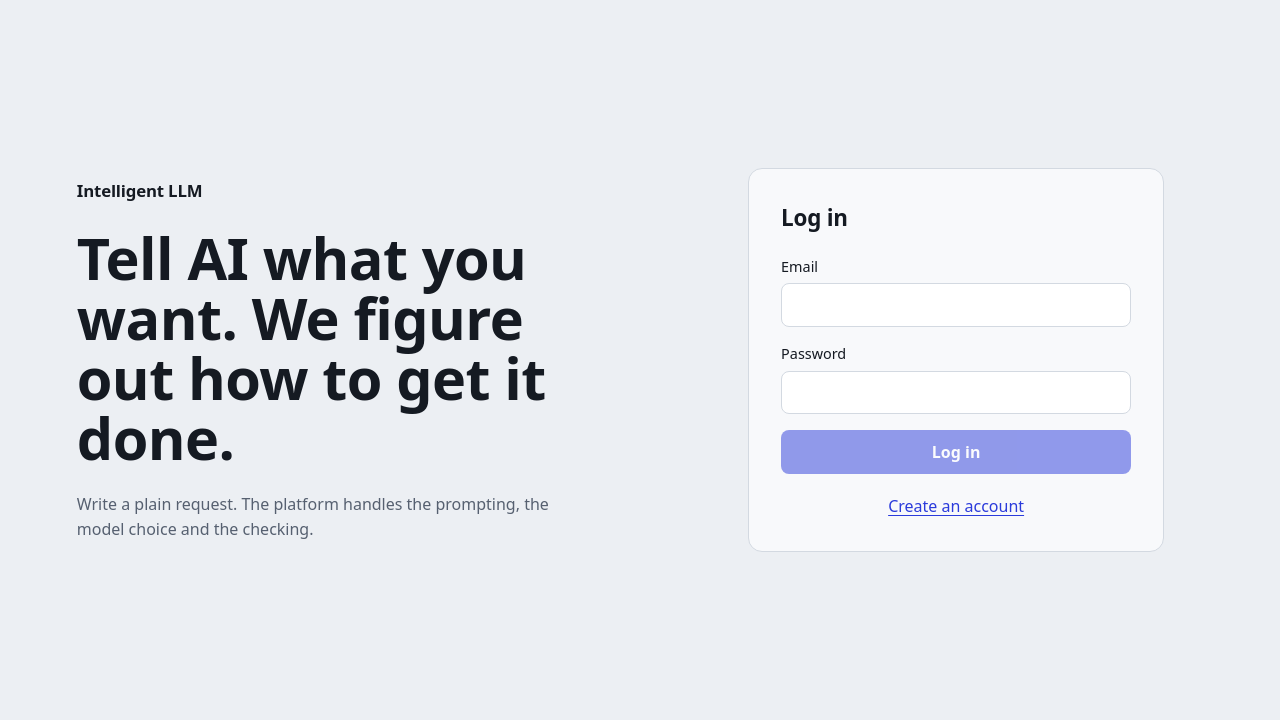
Test: authentication flow › logs in and lands on the chat start screen
Type "mo@example.com" into the field labelled "Email". click: (956, 305)
box: left=781, top=284, right=1131, bottom=327
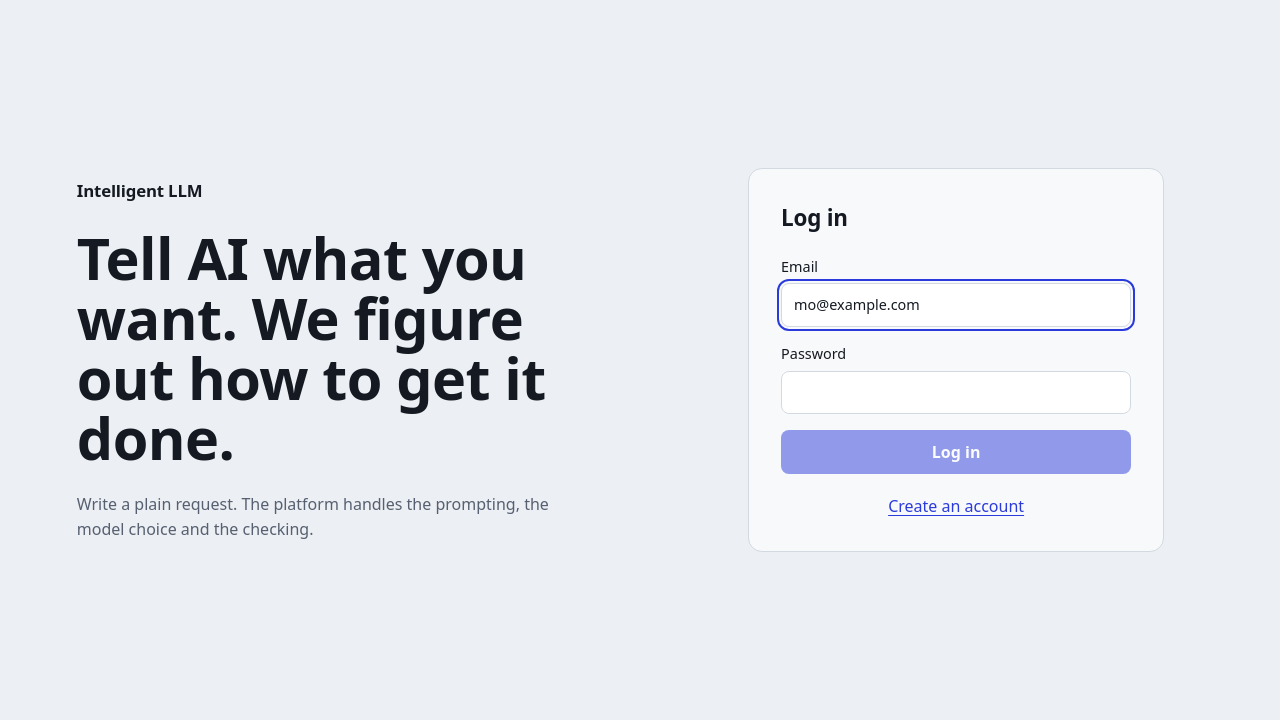
Type "correct-horse-battery" into the password field labelled "Password". click: (956, 393)
box: left=781, top=371, right=1131, bottom=414
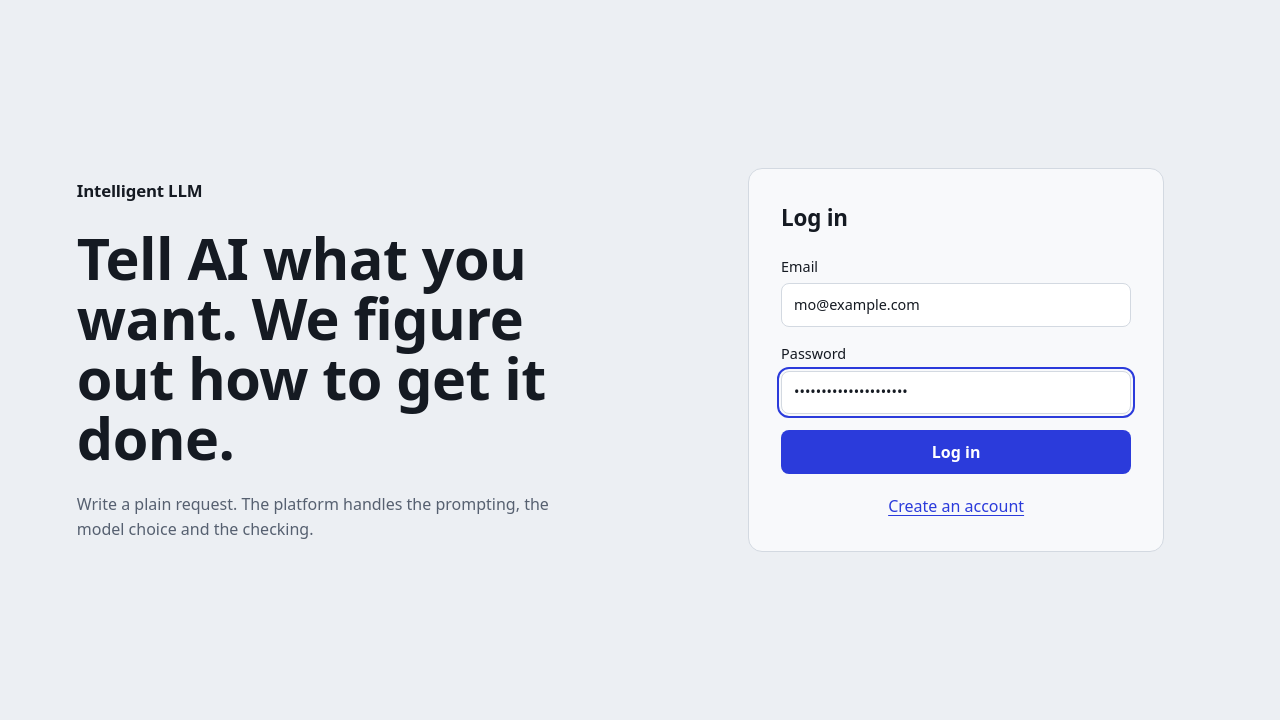
Click the button "Log in". click: (956, 452)
box: left=781, top=430, right=1131, bottom=474
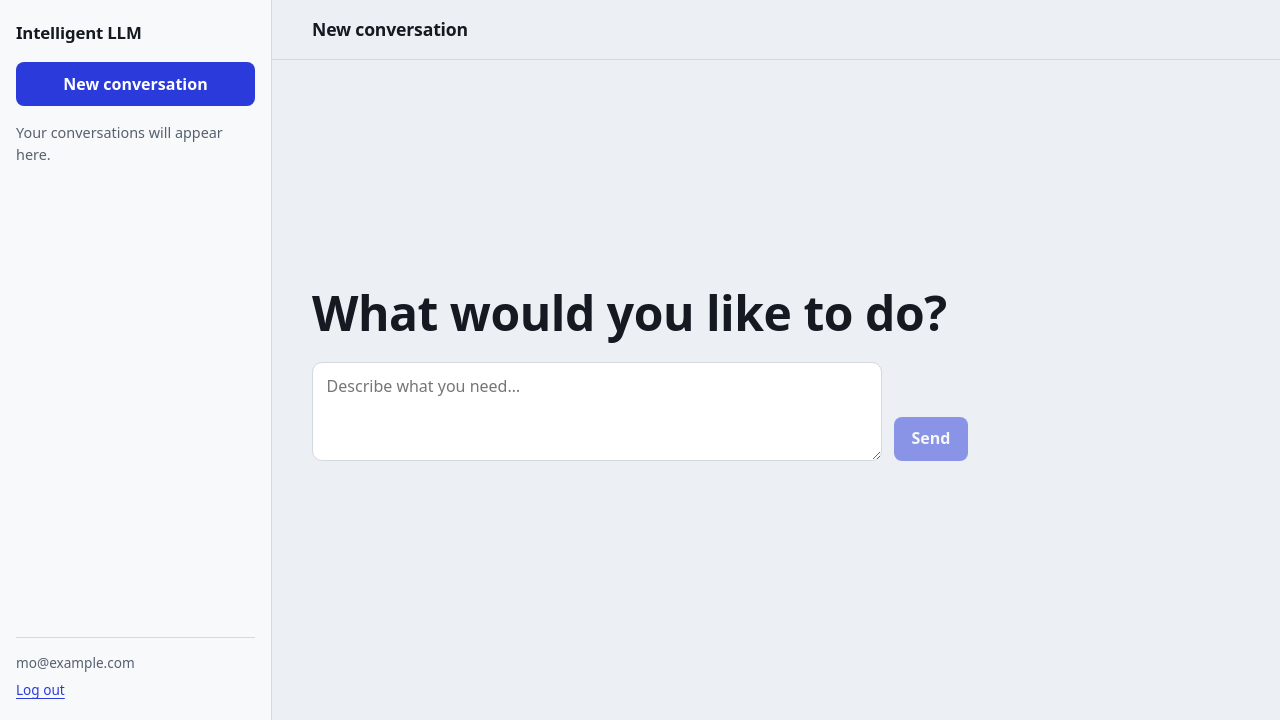
Expected: the heading "What would you like to do?" is shown, left=312, top=288, right=968, bottom=338
